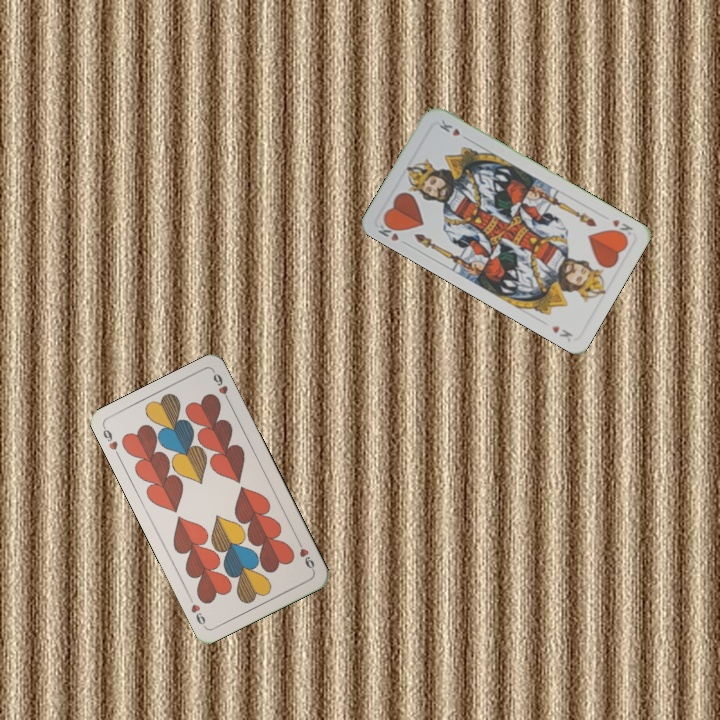H9: (293, 536, 317, 574), (99, 423, 123, 461)
HK: (373, 216, 411, 248), (607, 215, 636, 241)
